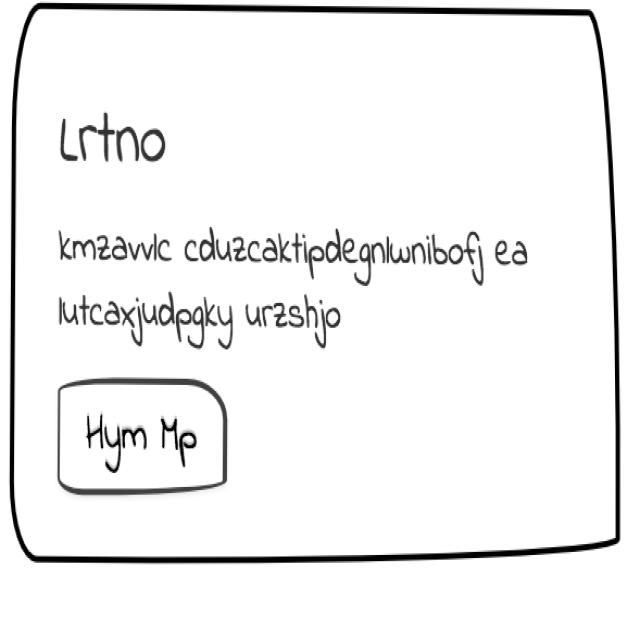Button: (43, 370, 253, 503)
Card: (11, 2, 622, 565)
Heading 6: (44, 100, 172, 182)
Paragraph: (42, 215, 537, 351)
